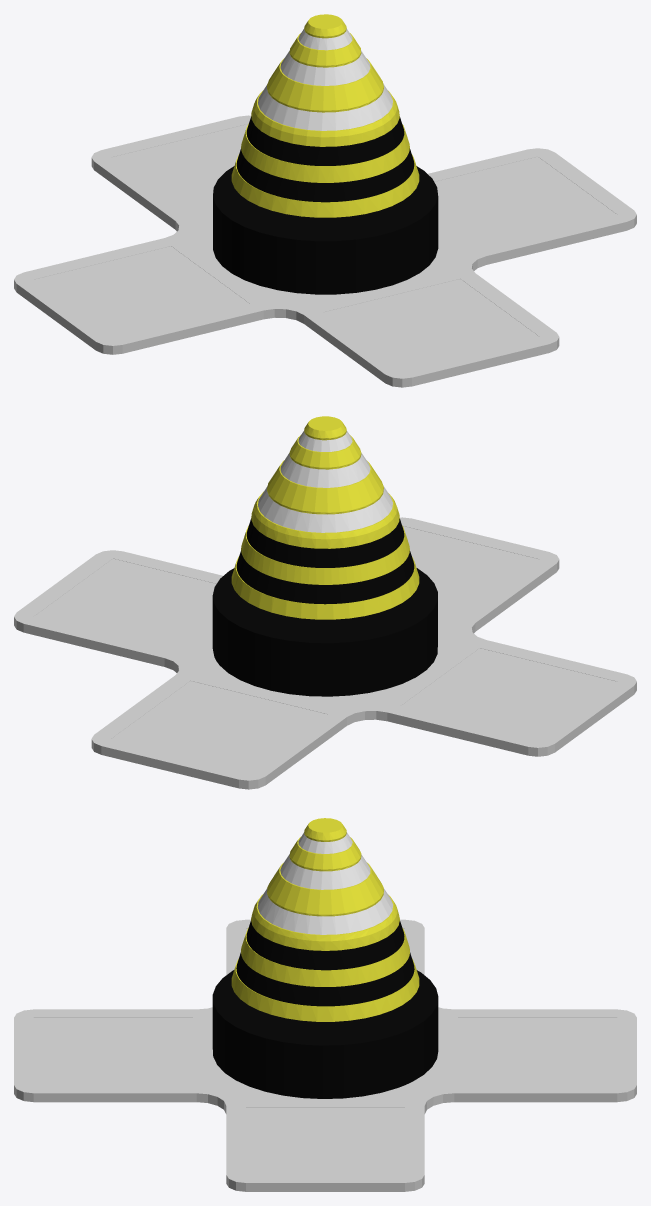
Rendered from docking_port.dae.
3 views of the same model, one above another, from view 1: azimuth 30°, elevation 25°; view 2: azimuth 150°, elevation 25°; view 3: azimuth 270°, elevation 25° (orthographic).
Parts seen in each view (by area): view 1: AM3 DockingStation Sim Coarse2; view 2: AM3 DockingStation Sim Coarse2; view 3: AM3 DockingStation Sim Coarse2.
Boxes of the visible parts, bbox=[...] form: AM3 DockingStation Sim Coarse2: bbox=[14, 14, 636, 387]; AM3 DockingStation Sim Coarse2: bbox=[14, 416, 636, 789]; AM3 DockingStation Sim Coarse2: bbox=[14, 818, 636, 1191].
Bounding box in the file's own units: 0.317 × 0.317 × 0.1318.
